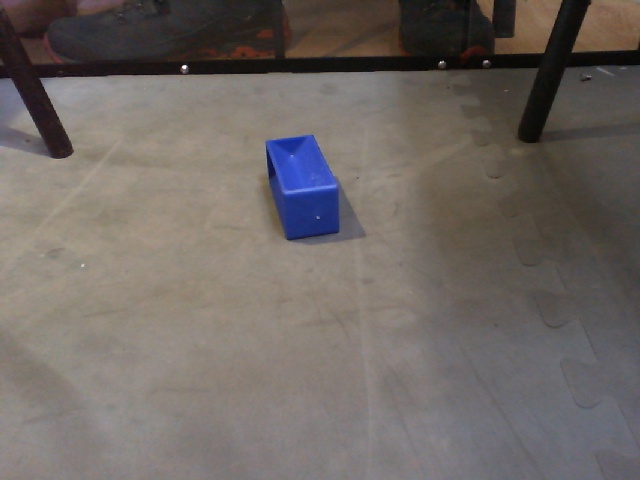BlueSample: (261, 130, 343, 240)
